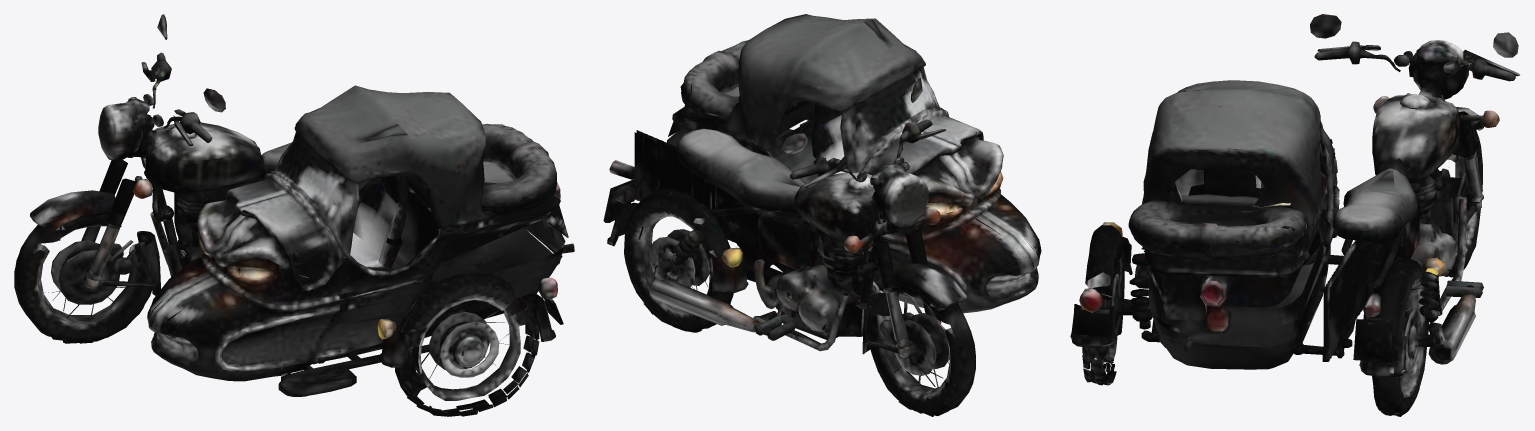
Rendered from cartoon-motorcycle.glb.
The picture shows the model from 3 angles, left to right: view 1: azimuth 30°, elevation 25°; view 2: azimuth 150°, elevation 25°; view 3: azimuth 270°, elevation 25°; orthographic projection. The views are drawn at different scales.
Visible parts, largest first — view 1: tripo_node_b3b0bec8-4df7-41f9-92f0-020dc1c86c80; view 2: tripo_node_b3b0bec8-4df7-41f9-92f0-020dc1c86c80; view 3: tripo_node_b3b0bec8-4df7-41f9-92f0-020dc1c86c80.
Boxes of the visible parts, left/top/right/bottom form: tripo_node_b3b0bec8-4df7-41f9-92f0-020dc1c86c80: left=14, top=14, right=574, bottom=416; tripo_node_b3b0bec8-4df7-41f9-92f0-020dc1c86c80: left=603, top=14, right=1041, bottom=416; tripo_node_b3b0bec8-4df7-41f9-92f0-020dc1c86c80: left=1070, top=14, right=1519, bottom=416.
Bounding box in the file's own units: 0.998 × 0.6321 × 0.8904.
Materials: 1 (1 with a texture image).
